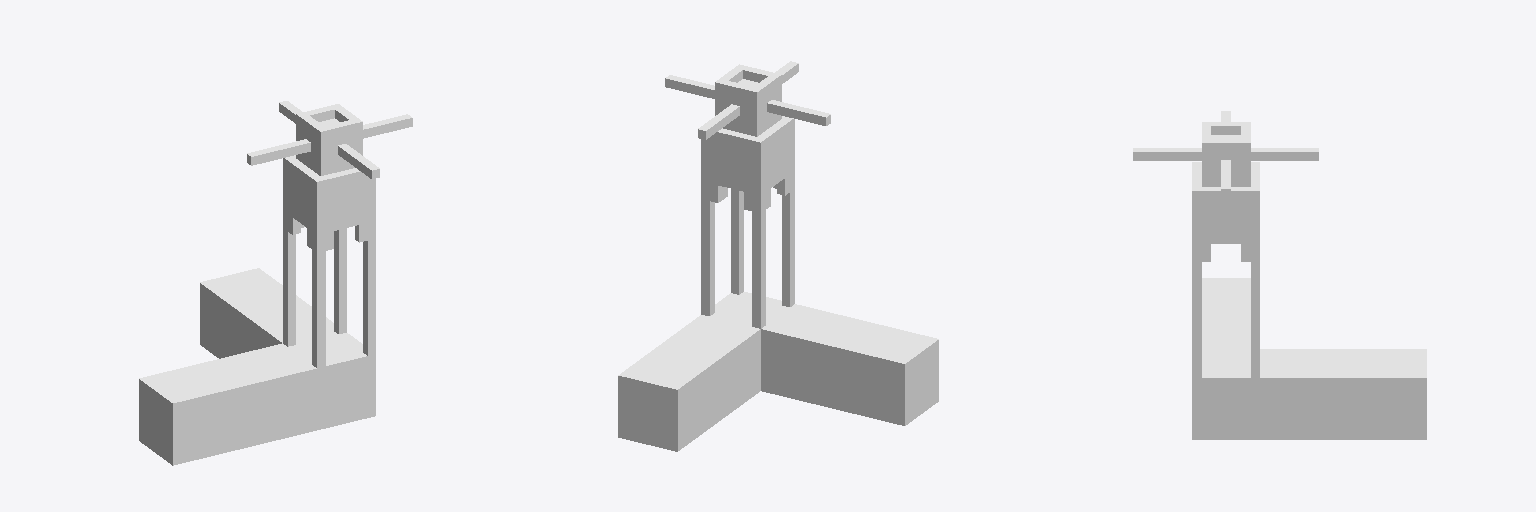
The model's file is monu9-L.obj.
The picture shows the model from 3 angles: view 1: azimuth 30°, elevation 25°; view 2: azimuth 150°, elevation 25°; view 3: azimuth 270°, elevation 25°; orthographic projection.
Bounding box in the file's own units: 30 × 33 × 30.